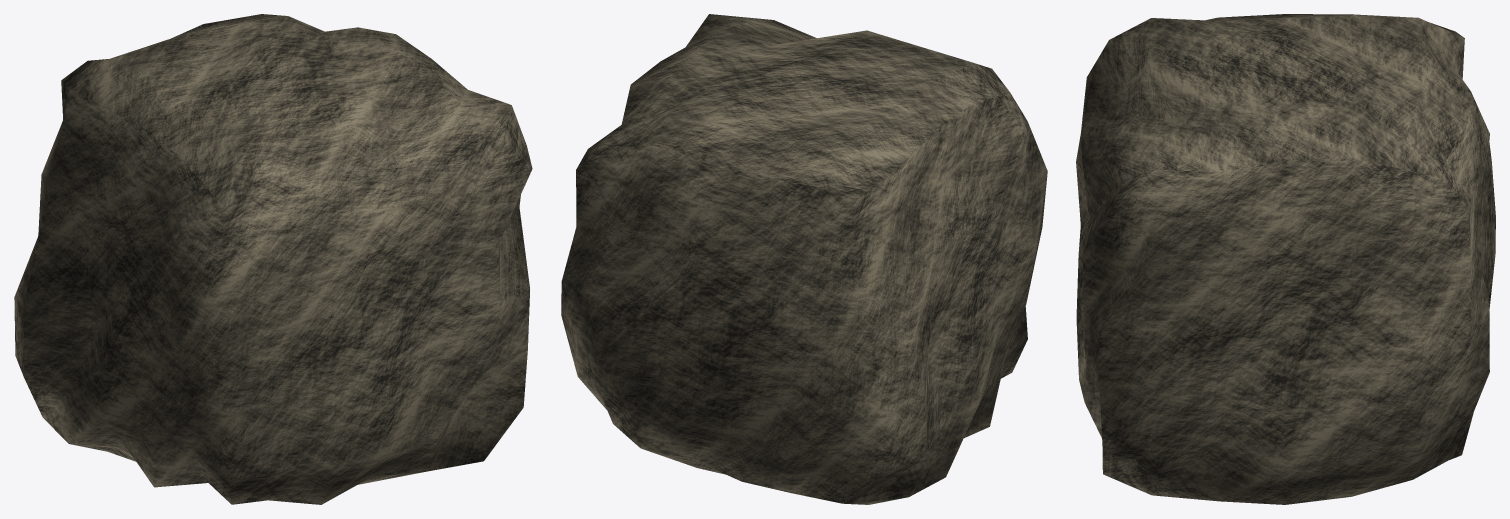
Rendered from RockCube.FBX.
3 renders of one model, left to right at view 1: azimuth 30°, elevation 25°; view 2: azimuth 150°, elevation 25°; view 3: azimuth 270°, elevation 25°, orthographic. The views are drawn at different scales.
Visible parts, largest first — view 1: Stone; view 2: Stone; view 3: Stone.
Part boxes in pixels (x1,y1,x2,y2): Stone: (14, 14, 532, 504); Stone: (561, 14, 1047, 504); Stone: (1076, 14, 1495, 504).
Bounding box in the file's own units: 13.29 × 12.45 × 12.41.
